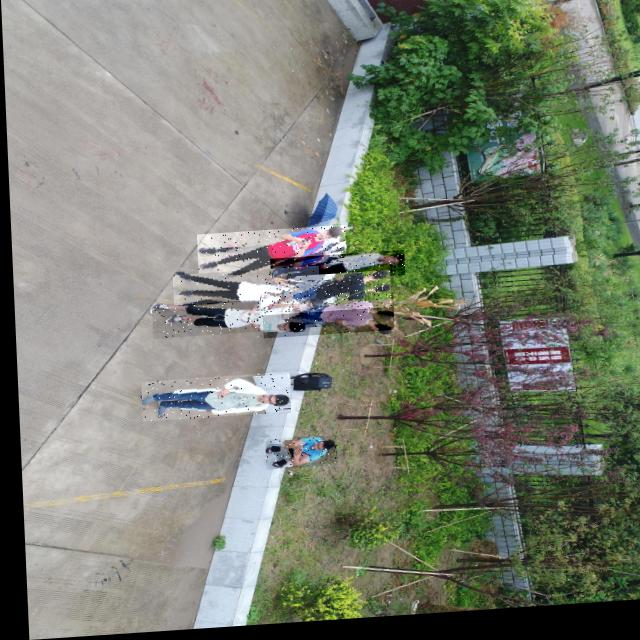Person: (194, 230, 343, 286), (169, 270, 316, 320), (137, 376, 286, 424), (148, 301, 301, 341), (256, 276, 388, 321), (258, 298, 390, 342), (267, 256, 402, 288), (260, 439, 332, 473)
